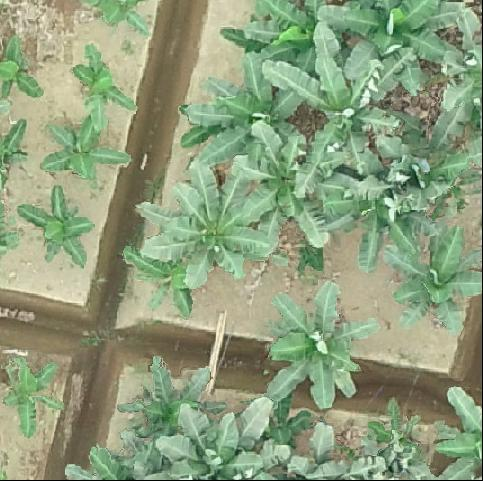Banana-plant: (260, 26, 401, 185), (135, 159, 279, 292), (326, 0, 483, 92), (179, 51, 303, 165), (268, 283, 371, 404), (324, 157, 431, 260), (384, 231, 483, 340), (150, 407, 279, 481), (228, 1, 350, 75), (120, 356, 223, 440), (123, 242, 206, 320), (45, 118, 135, 188), (19, 191, 93, 268), (81, 43, 143, 127), (5, 363, 57, 435), (87, 0, 145, 29)
